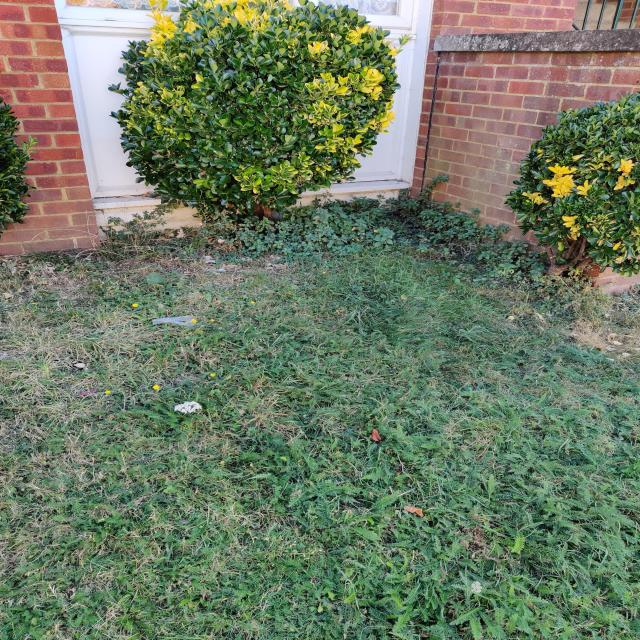litter: (143, 313, 212, 347), (168, 390, 223, 428)
